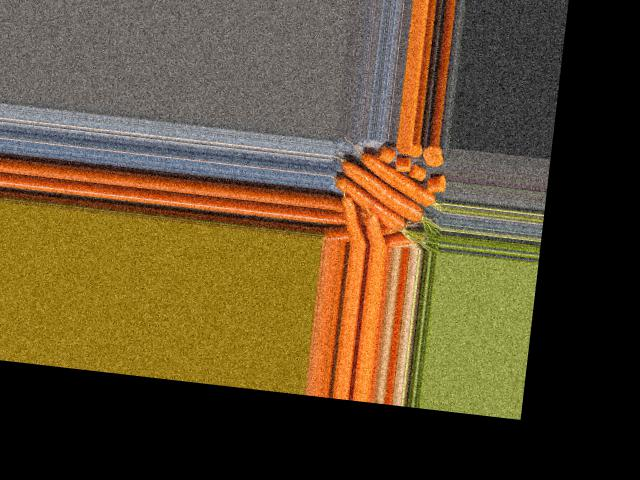carrot: (328, 176, 410, 234)
